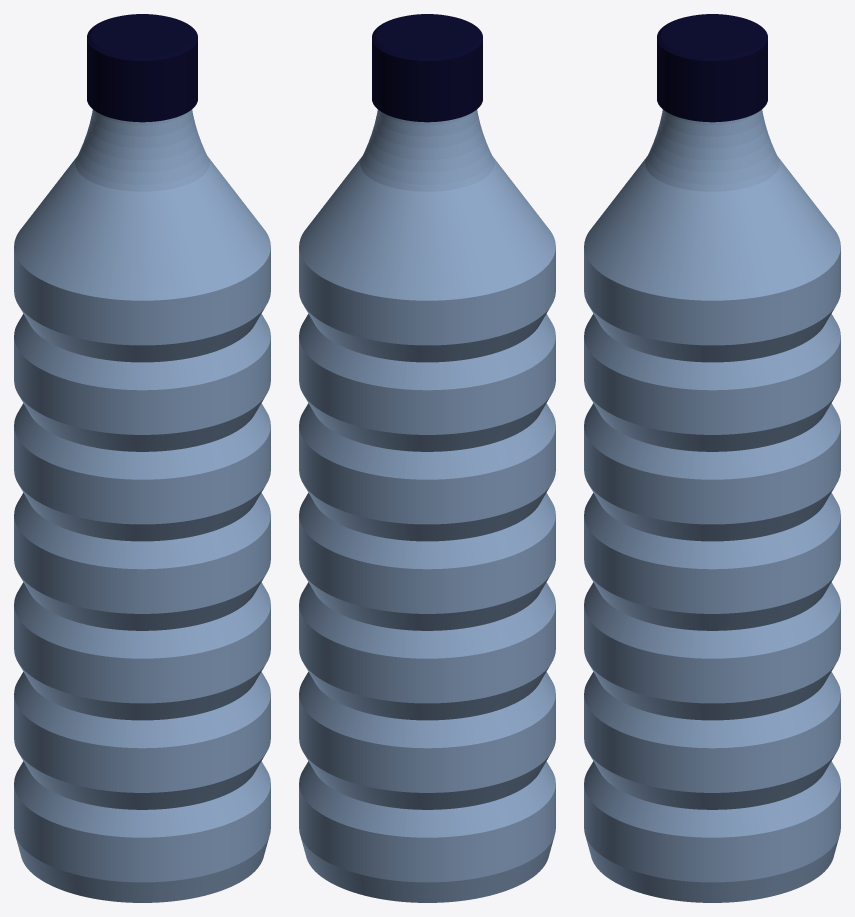
The model's file is water_bottle.dae.
3 views of the same model, side by side, from view 1: azimuth 30°, elevation 25°; view 2: azimuth 150°, elevation 25°; view 3: azimuth 270°, elevation 25° (orthographic).
Parts seen in each view (by area): view 1: Cylinder, Cone, Cylinder-001, Cylinder-002; view 2: Cylinder, Cone, Cylinder-001, Cylinder-002; view 3: Cylinder, Cone, Cylinder-001, Cylinder-002.
Part boxes in pixels (<box>): Cylinder: <box>14,248,270,902</box>; Cone: <box>14,157,270,300</box>; Cylinder-001: <box>87,14,197,122</box>; Cylinder-002: <box>75,109,209,191</box>; Cylinder: <box>299,248,555,902</box>; Cone: <box>299,157,555,300</box>; Cylinder-001: <box>372,14,482,122</box>; Cylinder-002: <box>360,109,494,191</box>; Cylinder: <box>584,248,840,902</box>; Cone: <box>584,157,840,300</box>; Cylinder-001: <box>657,14,767,122</box>; Cylinder-002: <box>645,109,779,191</box>.
Size of the model in its own units: 2 by 7.01 by 2.
